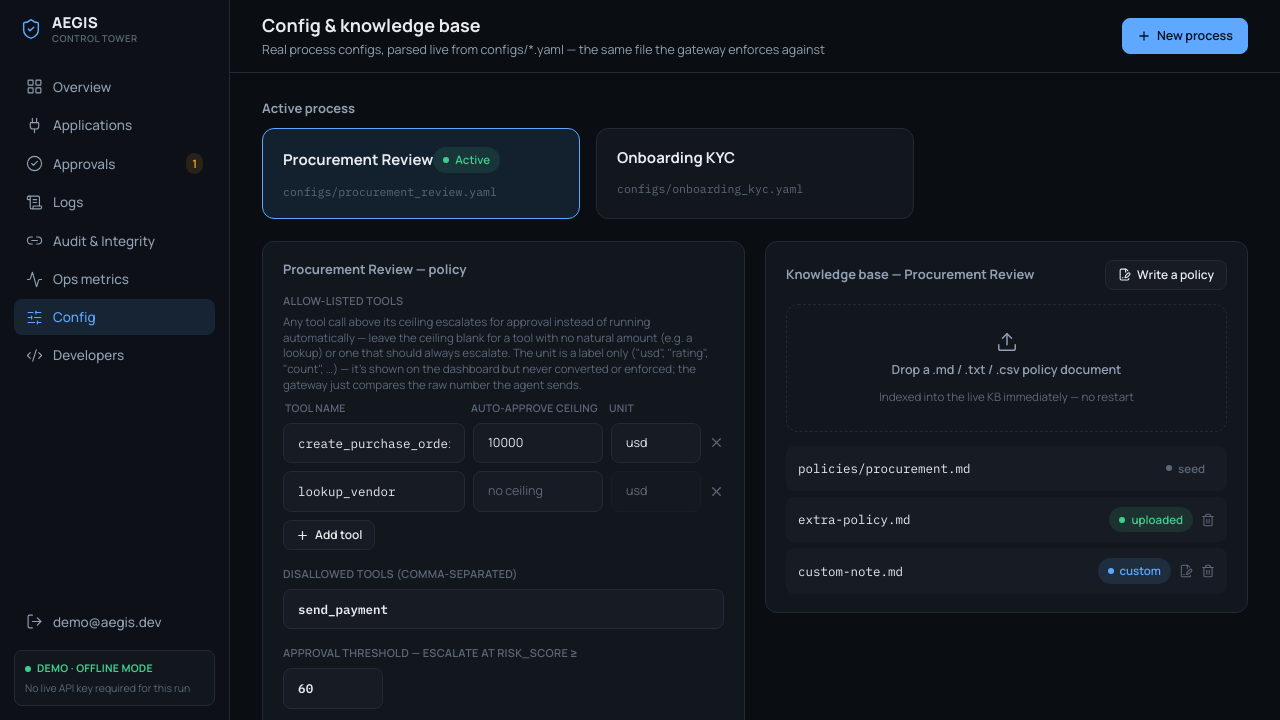
Test case: ConfigPage › deletes a document
The width and height of the screenshot is (1280, 720).
expect the text "extra-policy.md" is shown: met, box [798,510,910,529]
Click the button named "Delete extra-policy.md": point(1208, 520) [1201,513,1215,527]
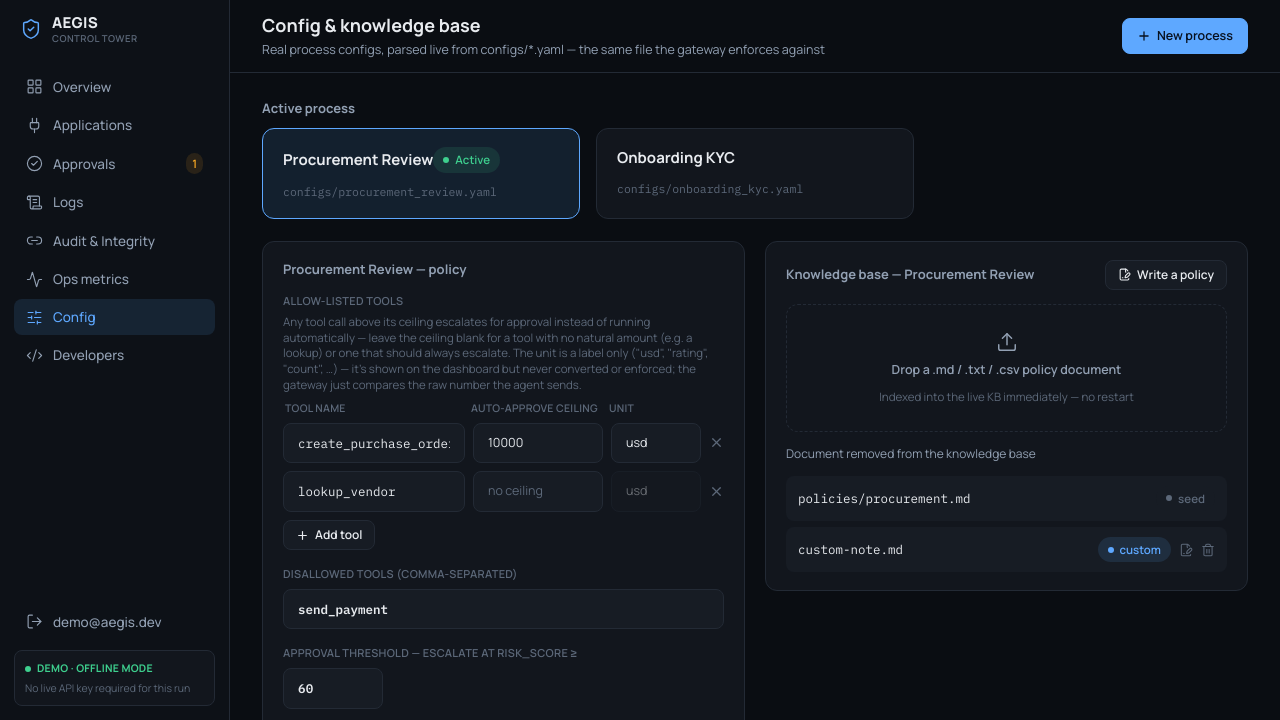
expect the text "Document removed from the knowledge base" is shown: met, box [786,445,1036,462]
